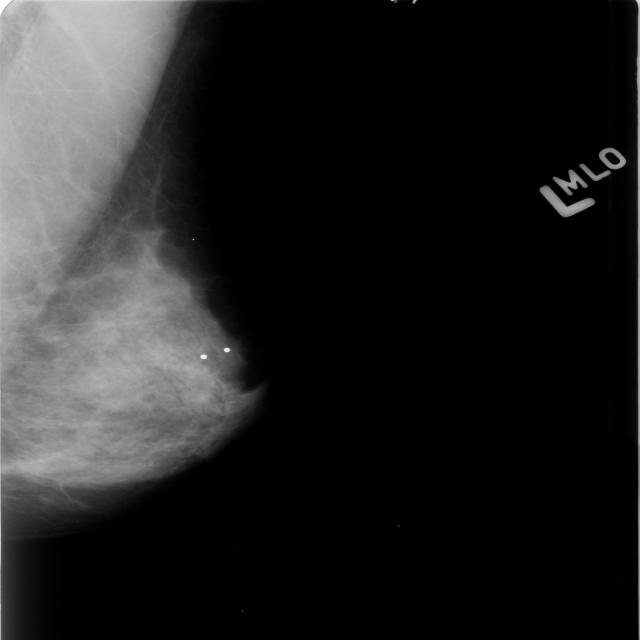normal: (0, 0, 267, 533)
